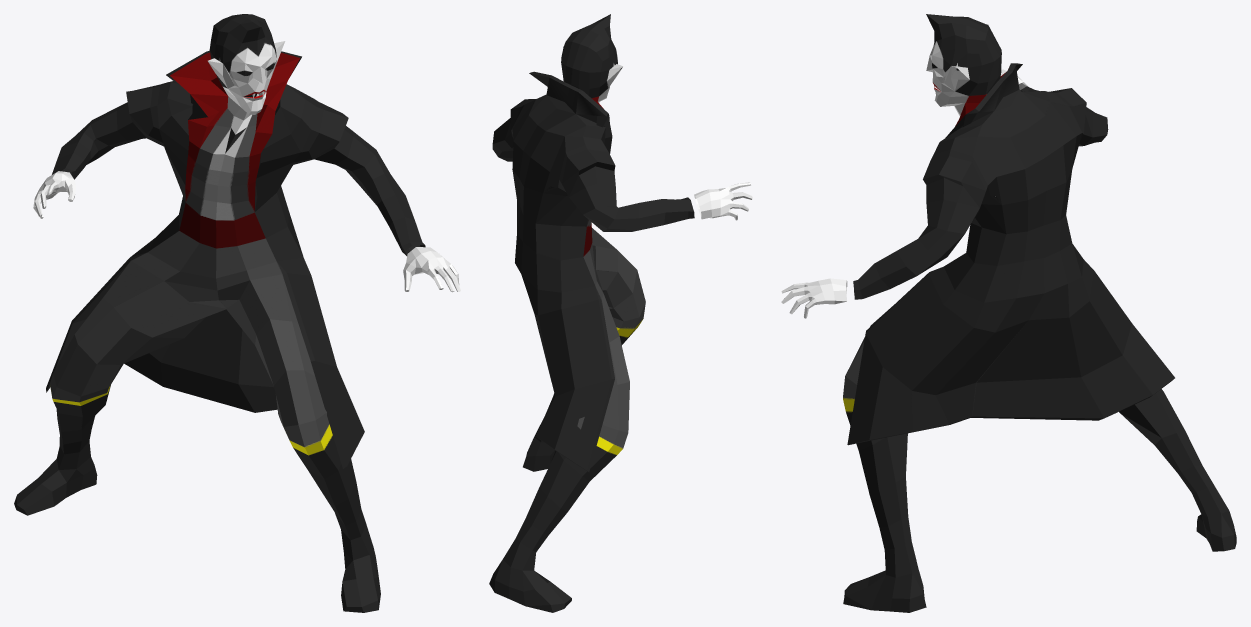
File: VampireAttack(52).obj
The picture shows the model from 3 angles, left to right: view 1: azimuth 30°, elevation 25°; view 2: azimuth 150°, elevation 25°; view 3: azimuth 270°, elevation 25°; orthographic projection. The views are drawn at different scales.
Visible parts, largest first — view 1: Plane002; view 2: Plane002; view 3: Plane002.
Boxes of the visible parts, <box> form: Plane002: <box>14,14,460,612</box>; Plane002: <box>489,14,752,612</box>; Plane002: <box>781,14,1236,612</box>.
Bounding box in the file's own units: 181 × 299 × 222.
